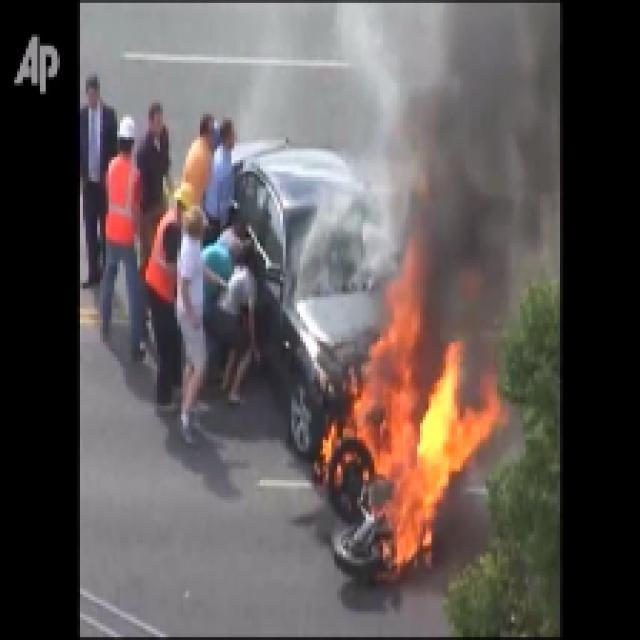Fire: (409, 6, 544, 338), (352, 360, 472, 551)
